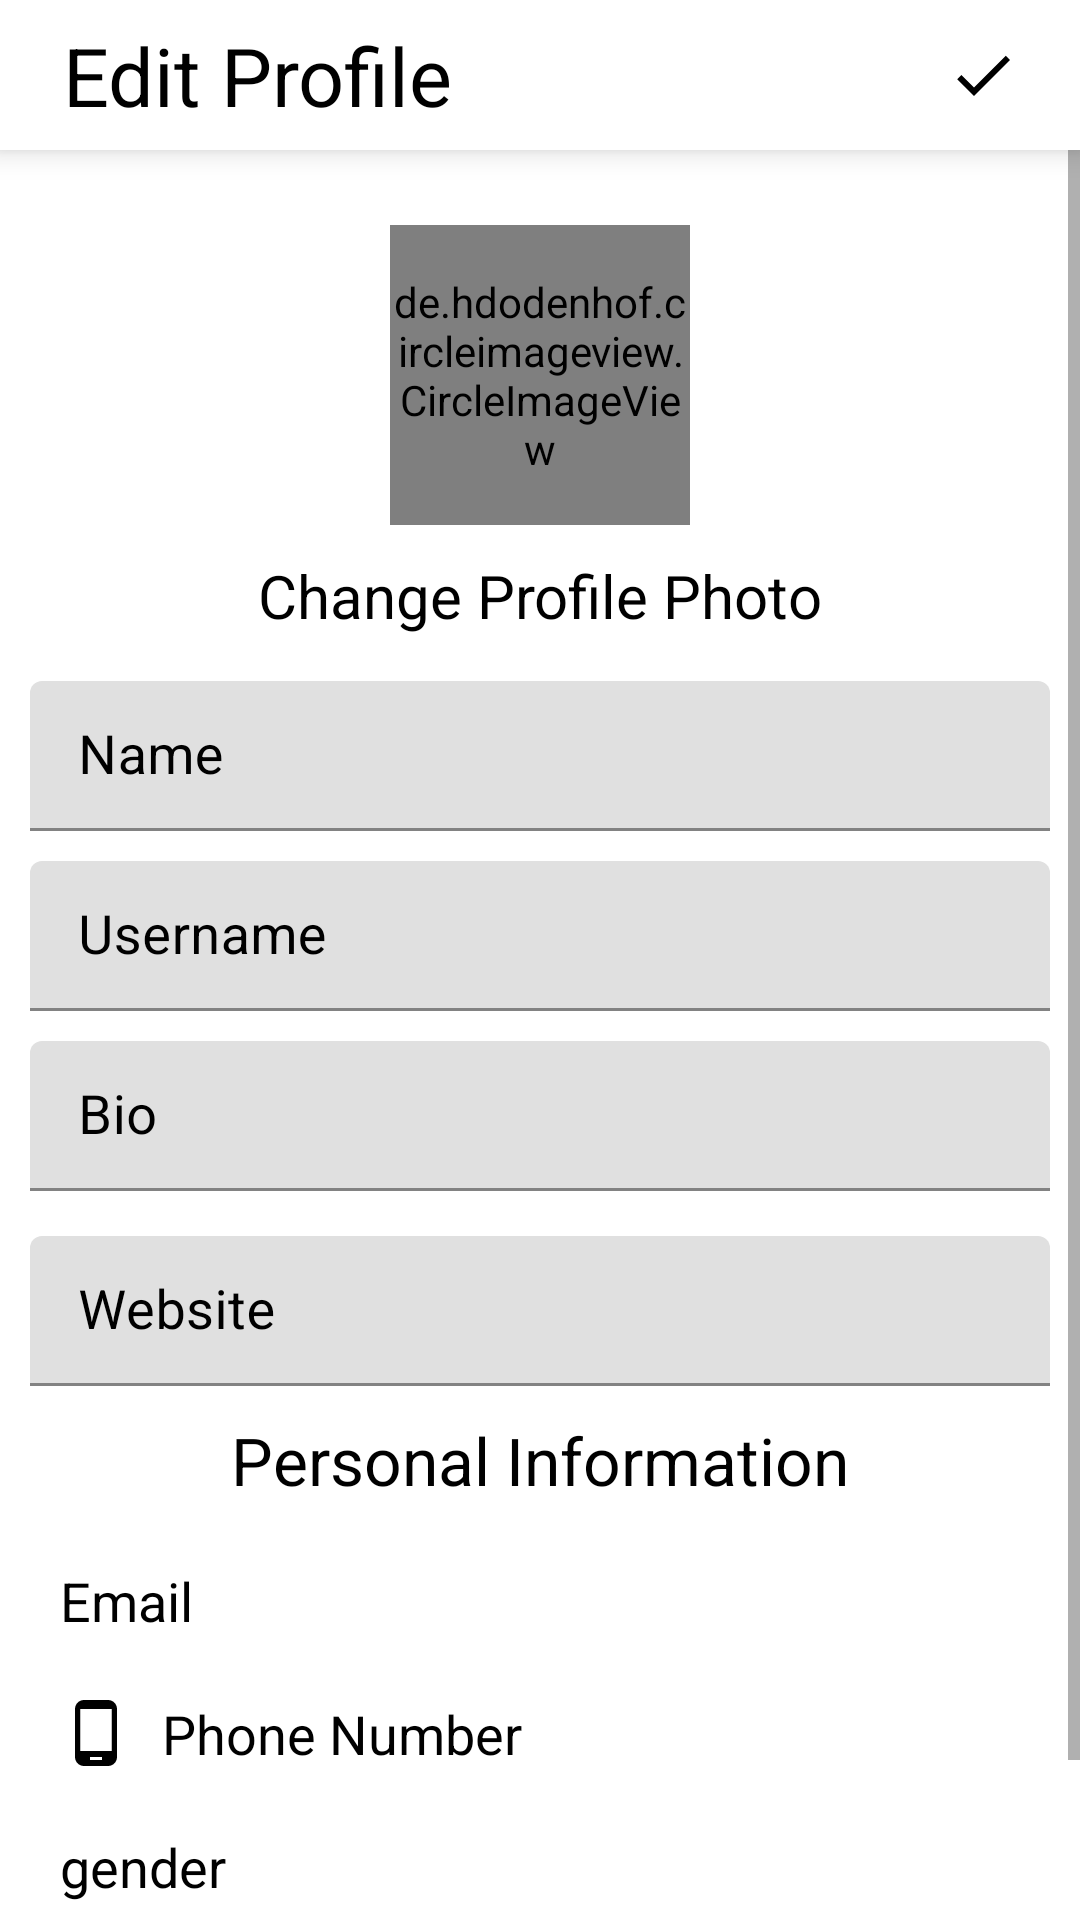

Icon click points for this 1080 x 1920 phone screenshot, format (x=x, y=y):
done: (x=983, y=76)
